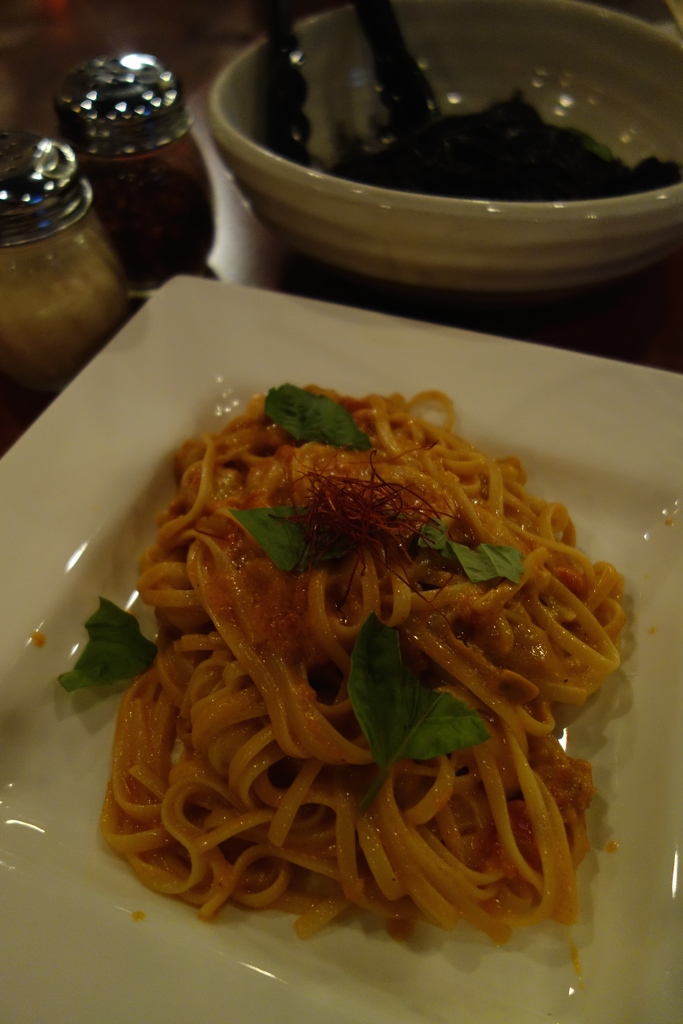pasta: (97, 388, 624, 941)
